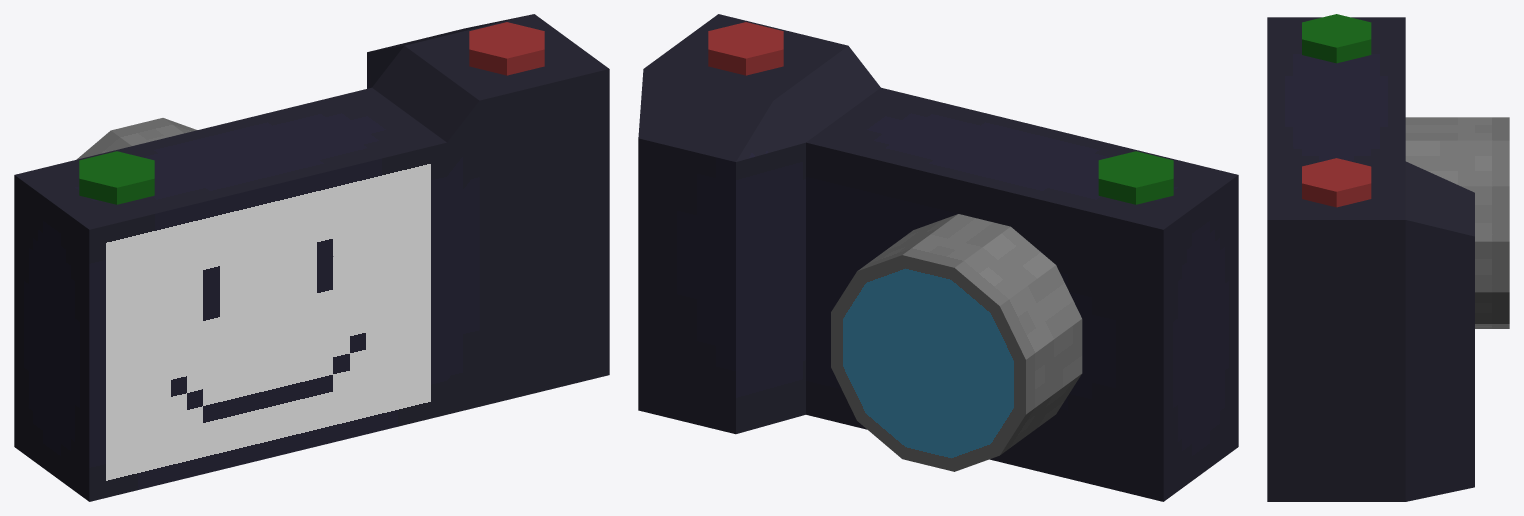
File: Camera.gltf
The picture shows the model from 3 angles, left to right: view 1: azimuth 30°, elevation 25°; view 2: azimuth 150°, elevation 25°; view 3: azimuth 270°, elevation 25°; orthographic projection. The views are drawn at different scales.
Parts seen in each view (by area): view 1: Body, Shoot, Focus, Lens; view 2: Body, Lens, Focus, Shoot; view 3: Body, Lens, Shoot, Focus.
Boxes of the visible parts, left/top/right/bottom form: Body: left=14, top=14, right=609, bottom=501; Shoot: left=469, top=22, right=544, bottom=75; Focus: left=79, top=151, right=154, bottom=204; Lens: left=76, top=118, right=197, bottom=159; Body: left=638, top=14, right=1238, bottom=501; Lens: left=831, top=214, right=1082, bottom=471; Focus: left=1098, top=151, right=1173, bottom=204; Shoot: left=708, top=22, right=783, bottom=75; Body: left=1267, top=17, right=1474, bottom=501; Lens: left=1405, top=117, right=1509, bottom=328; Shoot: left=1302, top=158, right=1371, bottom=207; Focus: left=1302, top=14, right=1371, bottom=63.
Bounding box in the file's own units: 1 × 0.5938 × 0.4375.
Materials: 1 (1 with a texture image).
